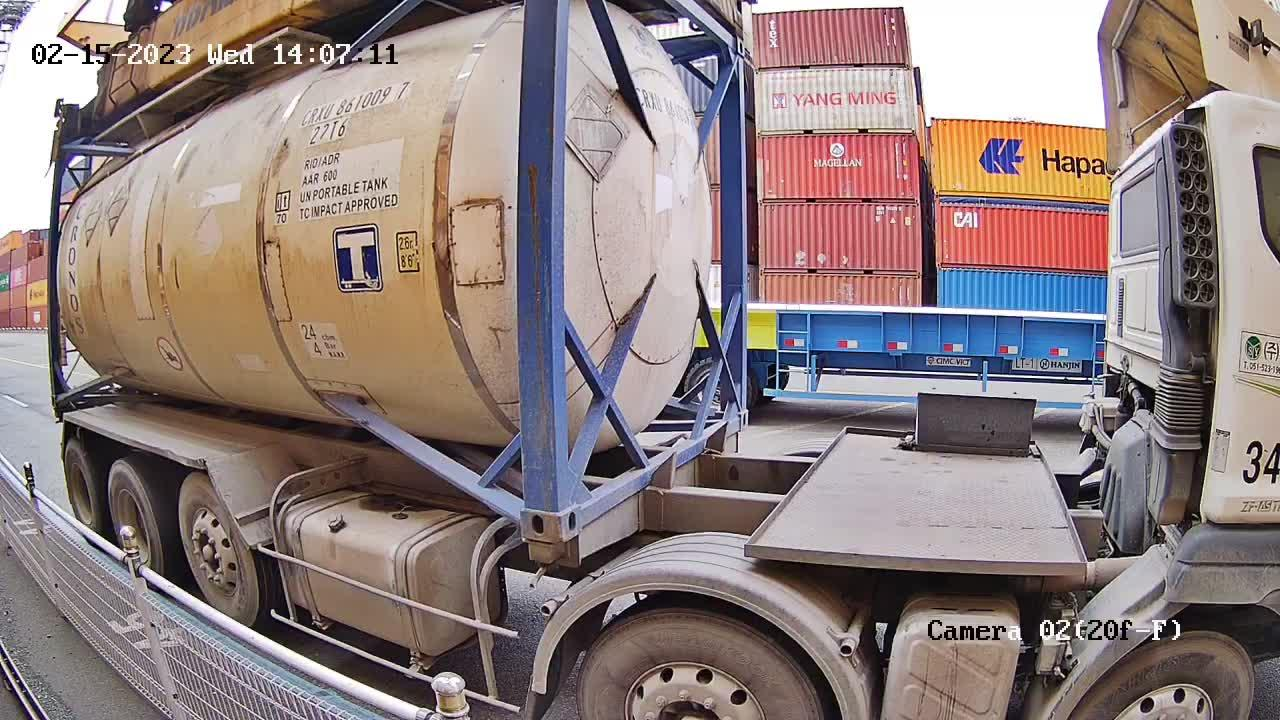Chassis: (566, 435, 743, 567)
Cone: (527, 543, 564, 577)
Hole_L: (561, 466, 612, 540)
Hole_R: (488, 477, 560, 541), (715, 375, 749, 438)
Tire: (575, 611, 834, 719), (1070, 626, 1256, 714), (176, 471, 262, 625), (107, 458, 157, 567), (62, 441, 97, 522)
